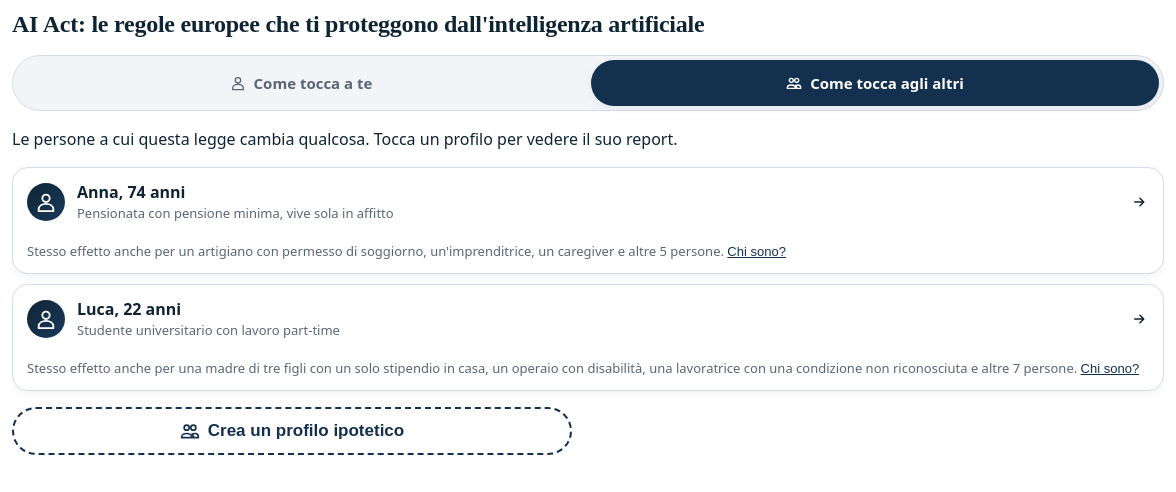
Scenario: nei gruppi grandi la riga si ferma a tre categorie e "Chi sono?" apre le altre
This screenshot has width=1176, height=492.
Expected: the list item "Anna, 74 anni" shows "e altre 5 persone.", [12,167,1164,274]
Expected: the list item "Anna, 74 anni" shows "un artigiano con permesso di soggiorno", [178,242,720,260]
Click the 1st button "Chi sono?".
click(757, 251)  # box [727,244,786,259]
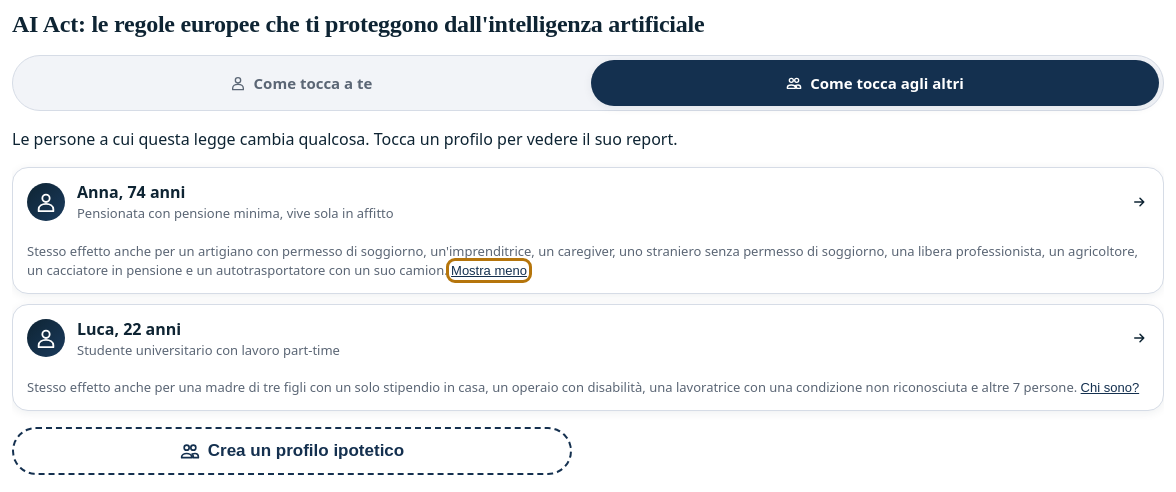
Expected: the list item "Anna, 74 anni" shows "un cacciatore in pensione", [27,242,1138,279]
Expected: the list item "Anna, 74 anni" shows "un autotrasportatore con un suo camion", [27,242,1138,279]
Expected: the list item "Anna, 74 anni" no longer shows "e altre 5 persone", [12,167,1164,294]
